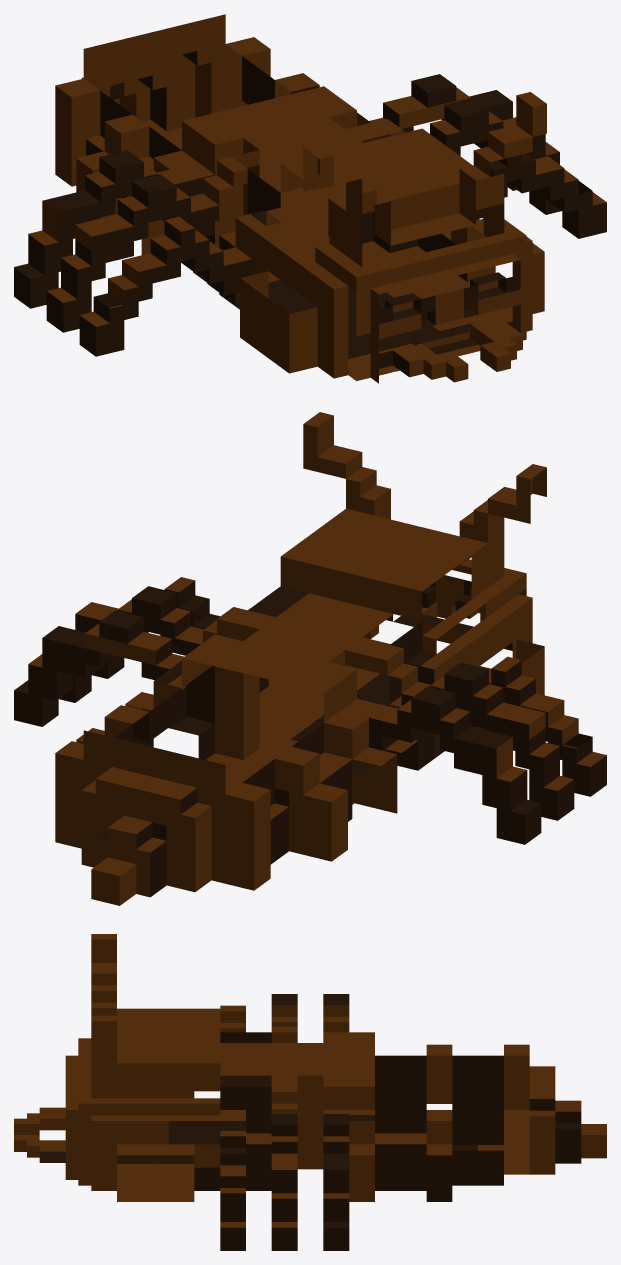
The model's file is Ant.dae.
3 views of the same model, one above another, from view 1: azimuth 30°, elevation 25°; view 2: azimuth 150°, elevation 25°; view 3: azimuth 270°, elevation 25° (orthographic). The views are drawn at different scales.
Parts seen in each view (by area): view 1: Tarmita; view 2: Tarmita; view 3: Tarmita.
Boxes of the visible parts, x1,y1,x2,y2 form: Tarmita: (14,14,606,383); Tarmita: (14,412,606,905); Tarmita: (14,934,606,1250).
Size of the model in its own units: 36 by 15 by 46.
